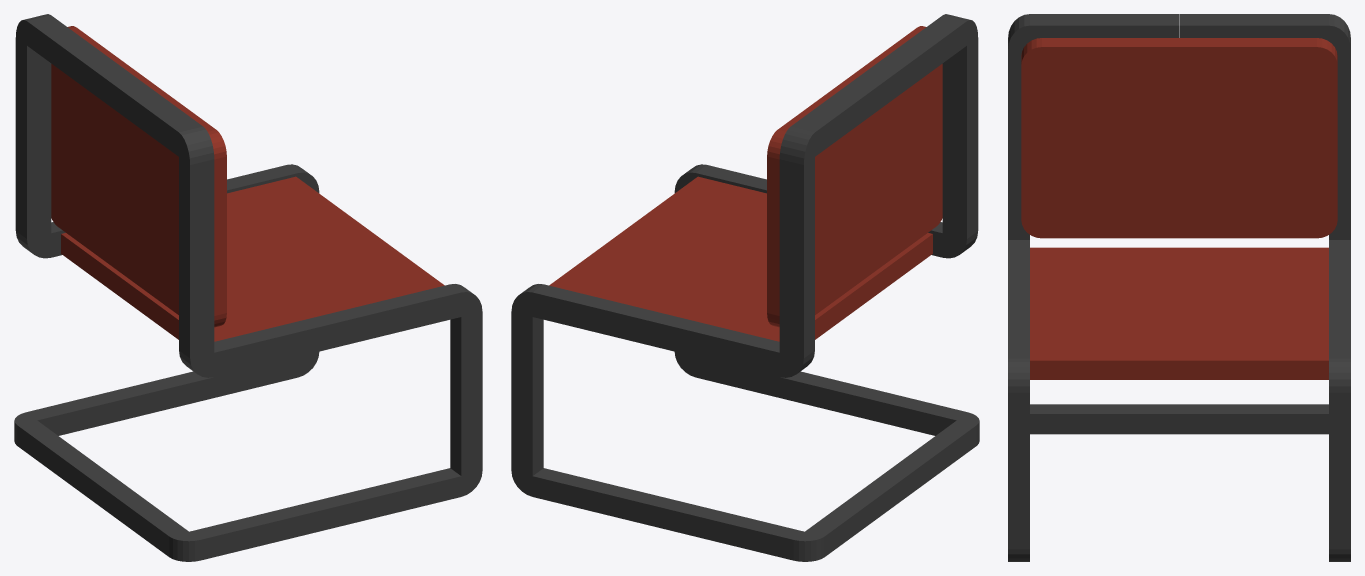
File: chair.fbx
3 views of the same model, side by side, from view 1: azimuth 30°, elevation 25°; view 2: azimuth 150°, elevation 25°; view 3: azimuth 270°, elevation 25° (orthographic).
Parts seen in each view (by area): view 1: Cube; view 2: Cube; view 3: Cube.
Part boxes in pixels (box(x1,y1,x2,y2)): Cube: box(14, 14, 482, 561); Cube: box(511, 14, 979, 561); Cube: box(1008, 14, 1350, 561).
Size of the model in its own units: 188 by 252 by 188.
